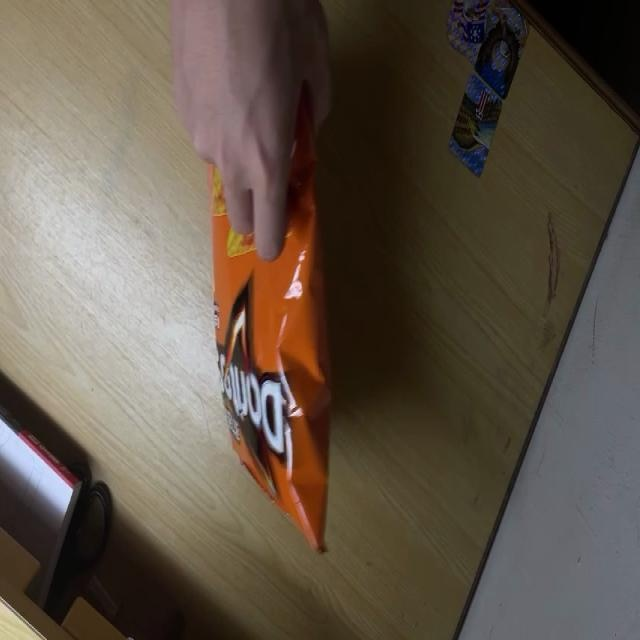Doritos: (210, 27, 331, 564)
